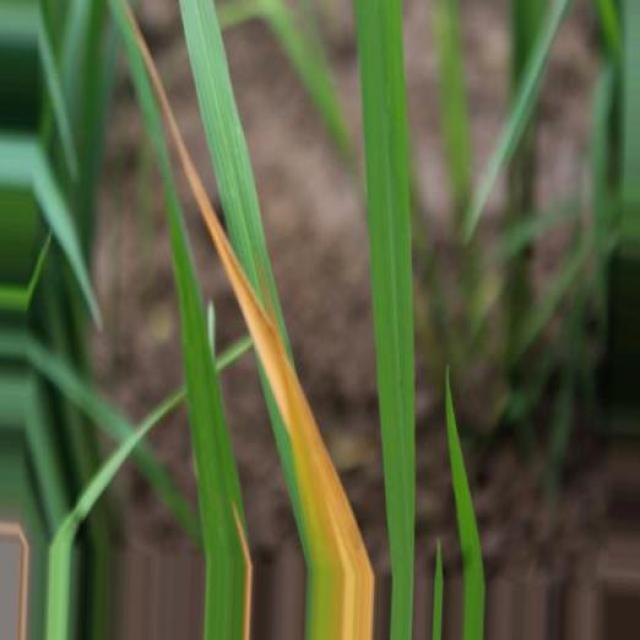Rice Tungro: (131, 13, 374, 638)
